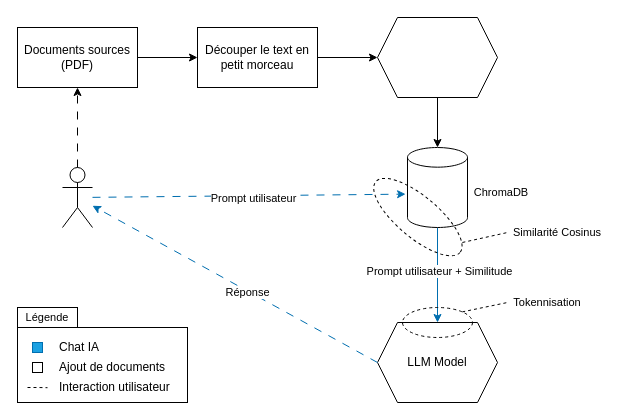
This 625x420 diagram has some shape labels left out. The centre of each missing label's shape, as x and y in pixels:
"Embedding model" goes at [437,57].
"Utilisateur" goes at [77,197].
